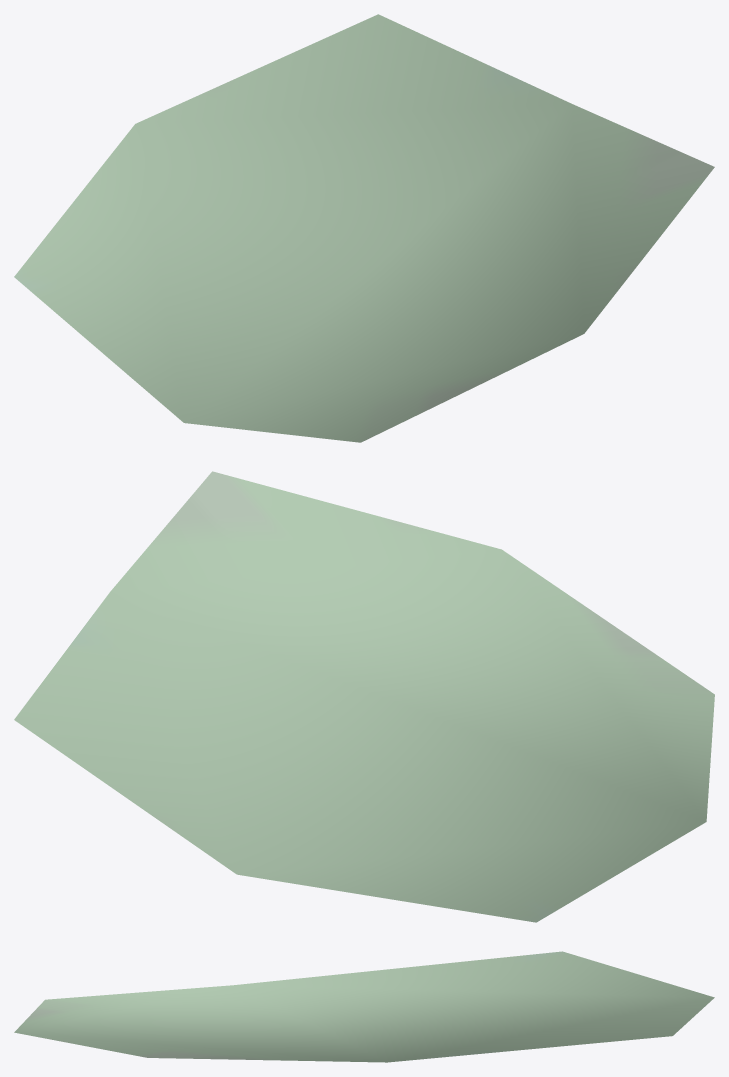
The model's file is TROLLHOLE02_HOLECAP93.fbx.
The picture shows the model from 3 angles, top to bottom: view 1: azimuth 30°, elevation 25°; view 2: azimuth 150°, elevation 25°; view 3: azimuth 270°, elevation 25°; orthographic projection. The views are drawn at different scales.
Parts seen in each view (by area): view 1: TROLLHOLE02_HOLECAP93; view 2: TROLLHOLE02_HOLECAP93; view 3: TROLLHOLE02_HOLECAP93.
Boxes of the visible parts, box(x1,y1,x2,y2) form: TROLLHOLE02_HOLECAP93: box(14, 14, 714, 442); TROLLHOLE02_HOLECAP93: box(14, 471, 714, 922); TROLLHOLE02_HOLECAP93: box(14, 951, 714, 1062).
Size of the model in its own units: 8703 by 2799 by 10443.
1 material, 1 textured.
